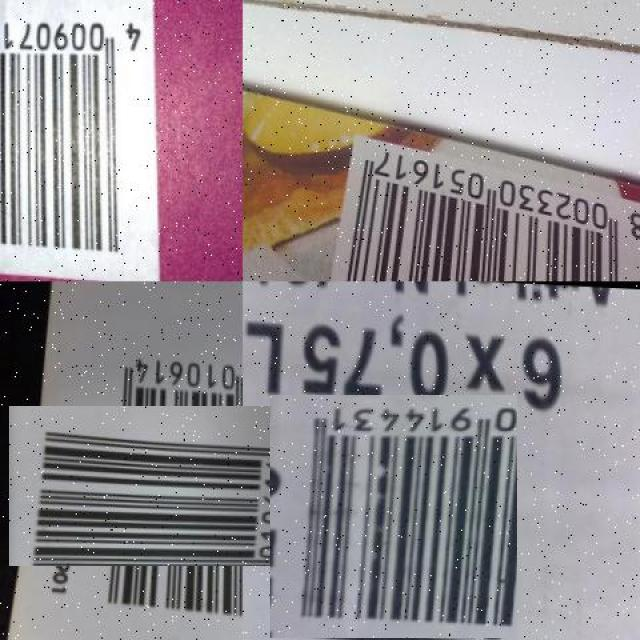Barcode: (271, 394, 517, 639), (46, 369, 280, 603), (312, 123, 640, 281), (0, 0, 158, 281)
